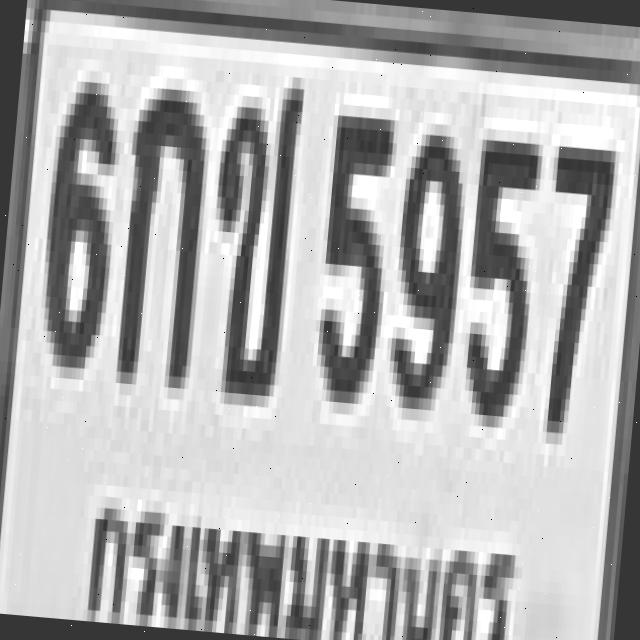10GorGai: (110, 75, 209, 376)
19ChorChang: (196, 59, 302, 397)
5: (454, 127, 540, 417), (310, 104, 392, 392)
6: (32, 68, 122, 358)
7: (531, 134, 612, 423)
9: (382, 121, 467, 400)
Bangkok: (75, 469, 532, 640)
